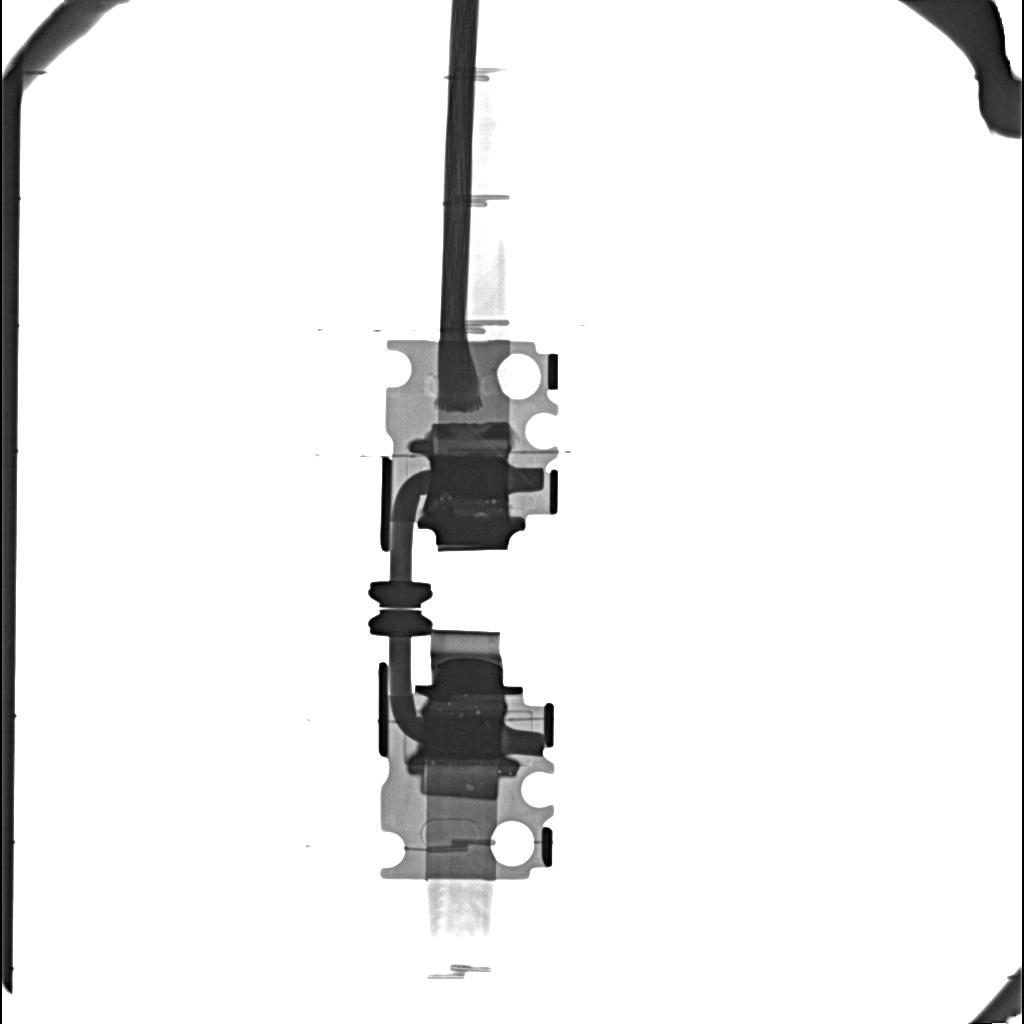气孔: (421, 761, 500, 801), (431, 422, 510, 454)
水纹: (430, 456, 509, 497), (425, 716, 501, 757)
